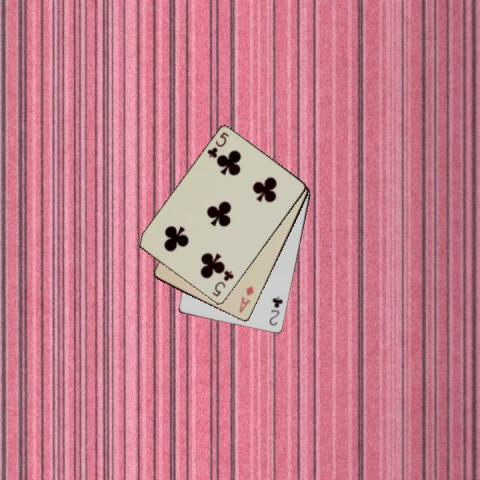2c: (266, 294, 284, 327)
5c: (210, 268, 236, 299), (204, 129, 230, 160)
Ad: (236, 282, 255, 314)
